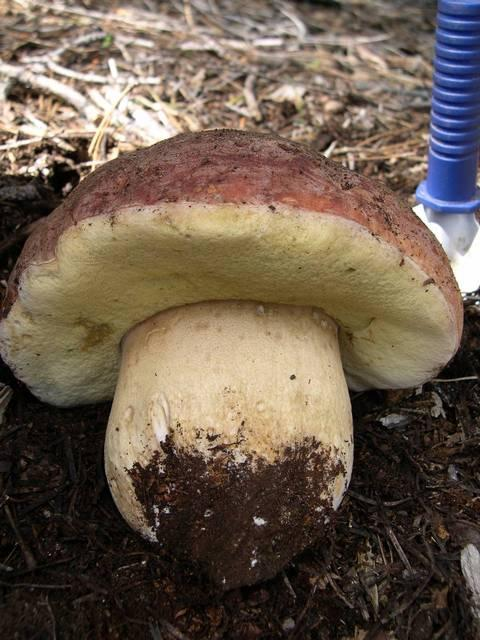Edible Mushroom: (0, 126, 465, 590)
